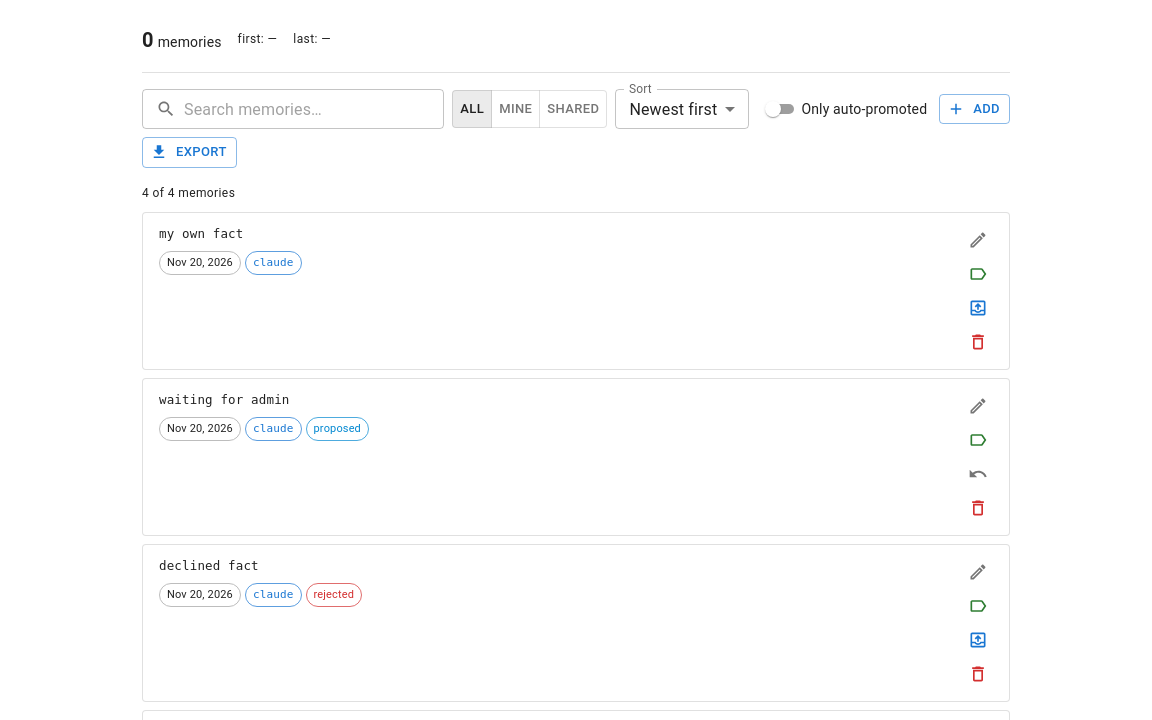
Test case: owner proposals (oi38) › rejected chip tooltip carries the admin reason
Hover over the text "rejected" at coordinates (334, 595), box [314,588,354,601]
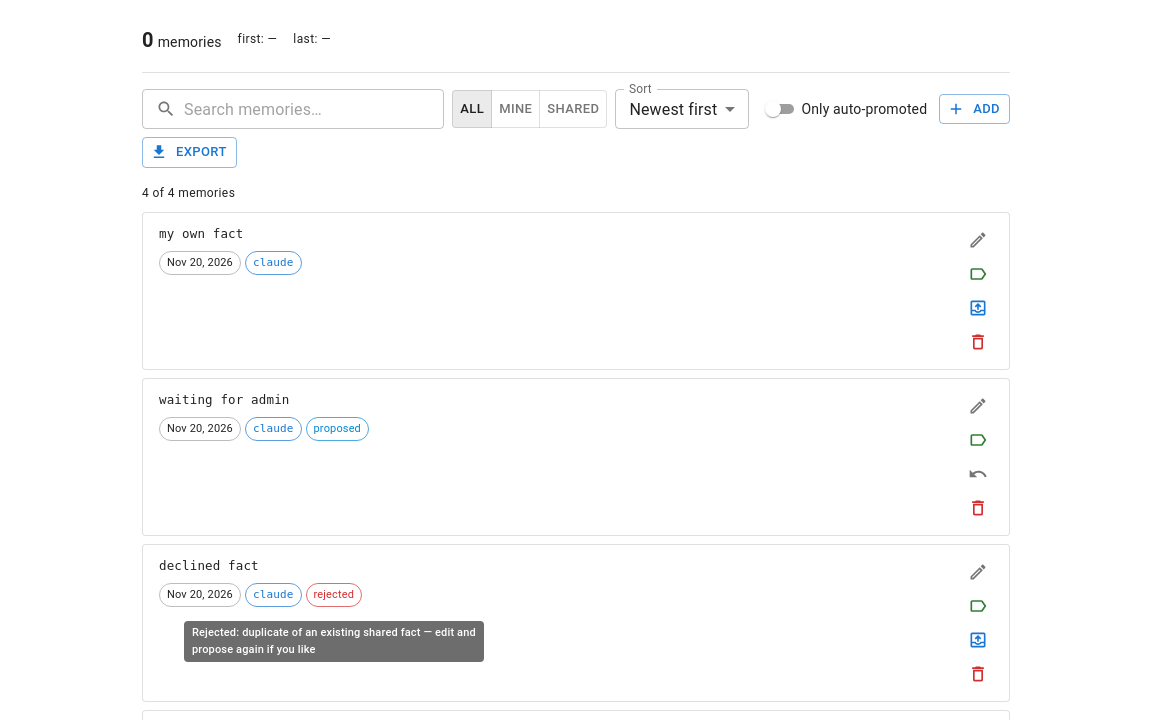
Expected: the text "duplicate of an existing shared fact" is shown, [192,626,476,656]
